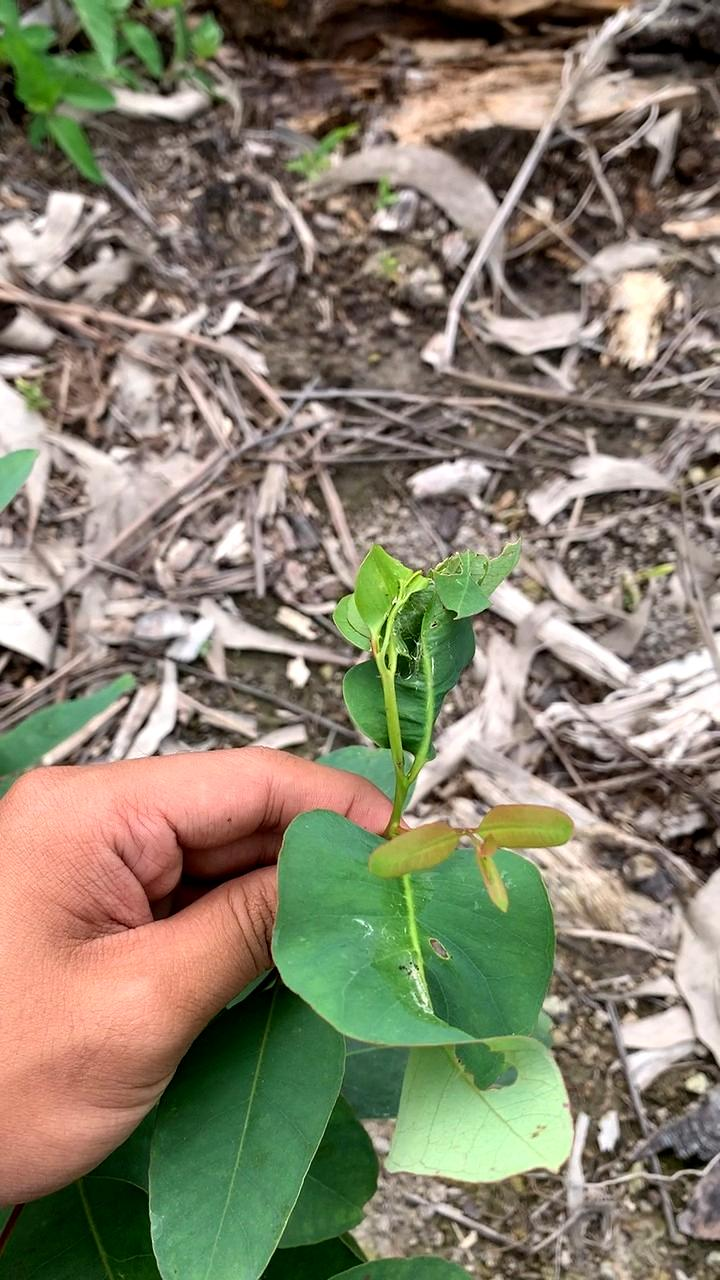Leaf Roller - Leaf: (326, 543, 529, 757)
